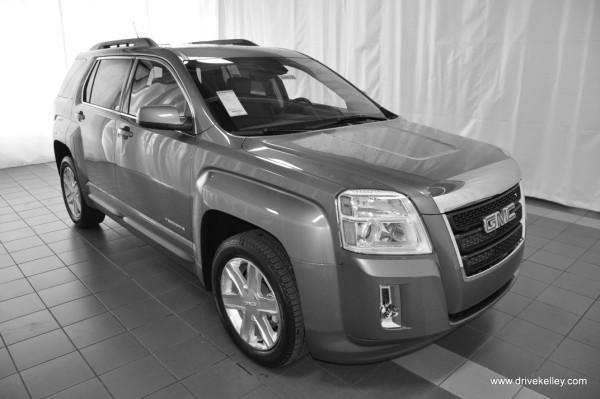car: (47, 34, 532, 371)
